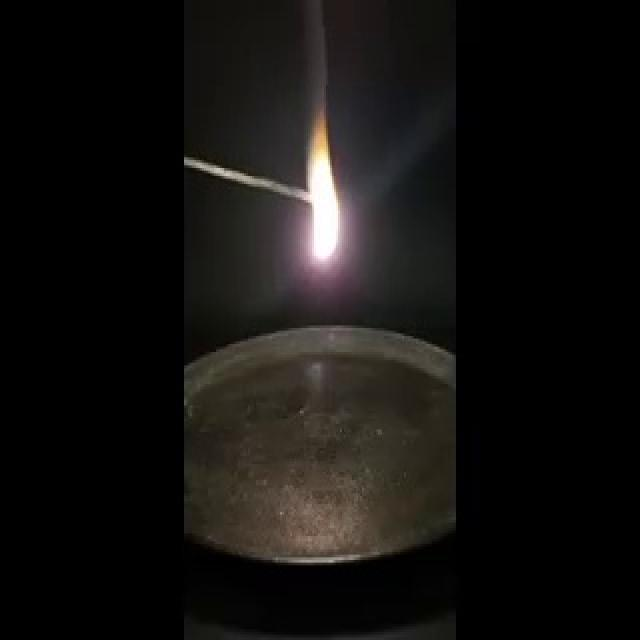Fire: (296, 103, 340, 271)
